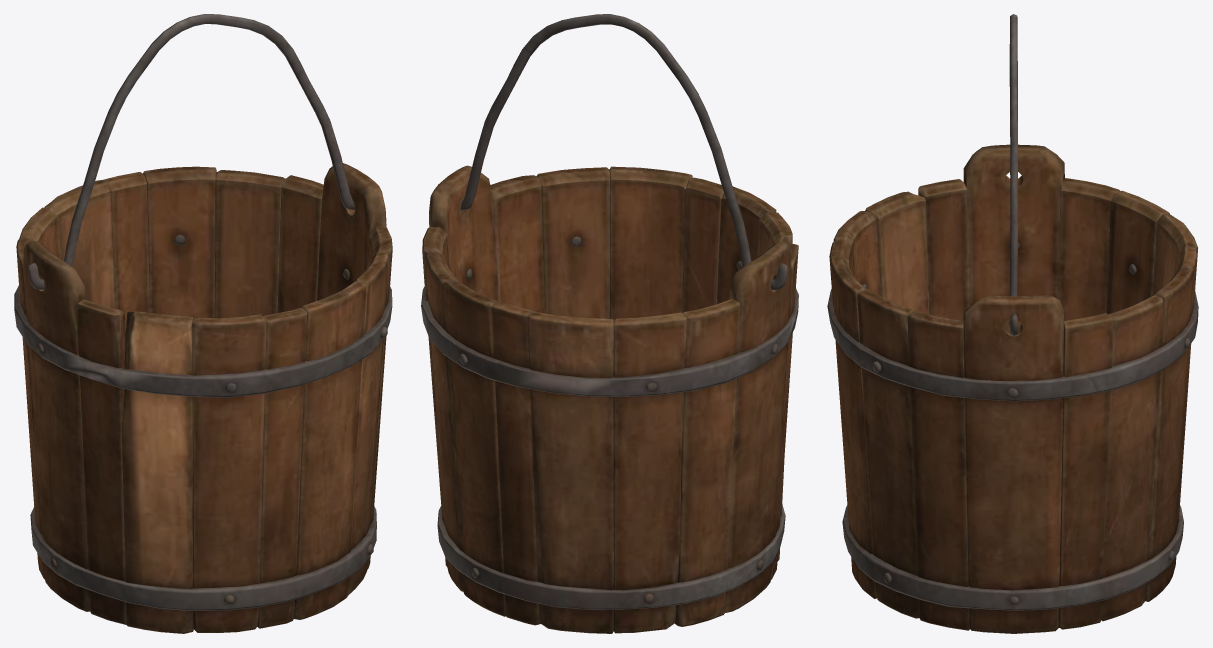
File: wooden_bucket_01.glb
3 views of the same model, side by side, from view 1: azimuth 30°, elevation 25°; view 2: azimuth 150°, elevation 25°; view 3: azimuth 270°, elevation 25° (orthographic).
Parts seen in each view (by area): view 1: wooden_bucket_01, wooden_bucket_01_handle; view 2: wooden_bucket_01, wooden_bucket_01_handle; view 3: wooden_bucket_01, wooden_bucket_01_handle.
Part boxes in pixels (x1,y1,x2,y2): wooden_bucket_01: [14, 163, 392, 633]; wooden_bucket_01_handle: [28, 14, 354, 289]; wooden_bucket_01: [421, 165, 798, 633]; wooden_bucket_01_handle: [438, 14, 787, 290]; wooden_bucket_01: [827, 144, 1198, 633]; wooden_bucket_01_handle: [1009, 14, 1018, 335].
Size of the model in its own units: 0.367 by 0.5499 by 0.3422.
1 material, 1 textured.
